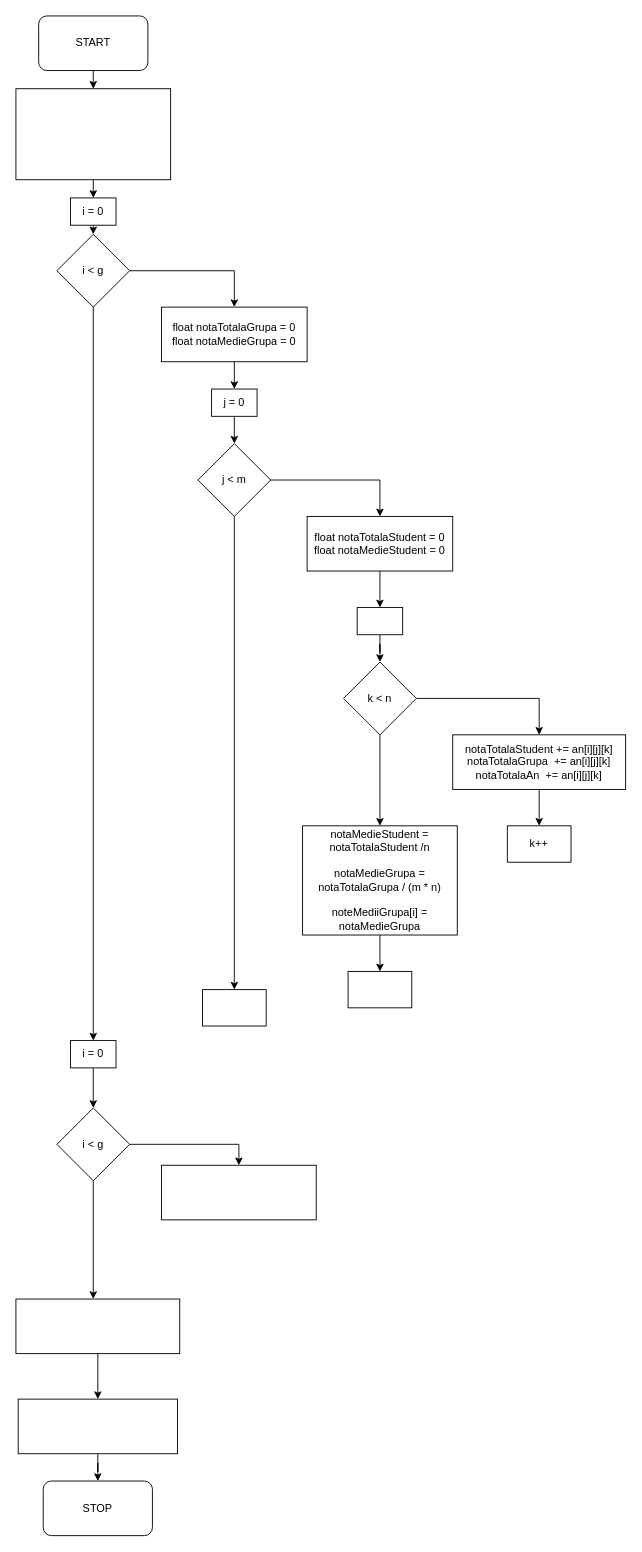
Some shapes in this 642 by 1552 pixel diagram are drawn without their labels. The shapes that lost their labels are listed below. From the top down, each one's centre as x and y in pixels, then its label:
At point 93,134: "int g int m int n float[][][] an float[] notaMediiGrupa float notaTotalaAn".
At point 379,621: "k = 0".
At point 234,1007: "i++".
At point 379,989: "j++".
At point 238,1192: "Afiseaza noteMediiGrupa[i]".
At point 97,1326: "float notaMedieAn = notaTotalaAn / (g * m * n)".
At point 97,1426: "Afiseaza notaMedieAn".
